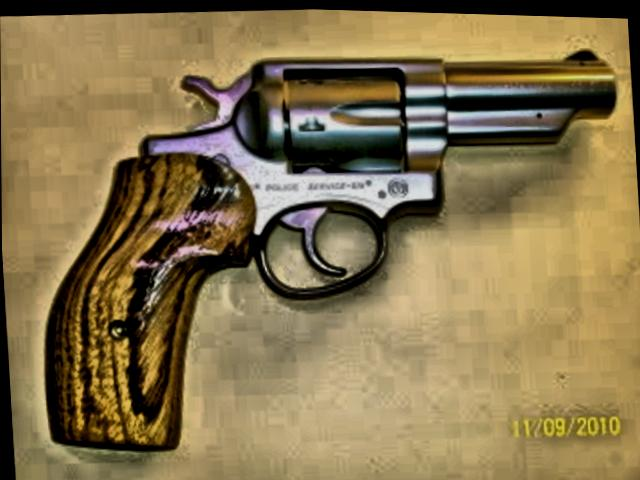pistol: (14, 27, 637, 464)
